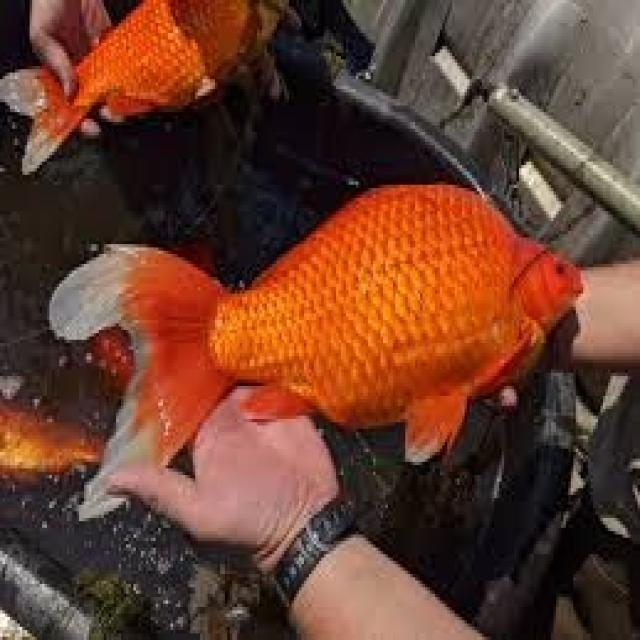Gold-Fish: (40, 115, 631, 562)
